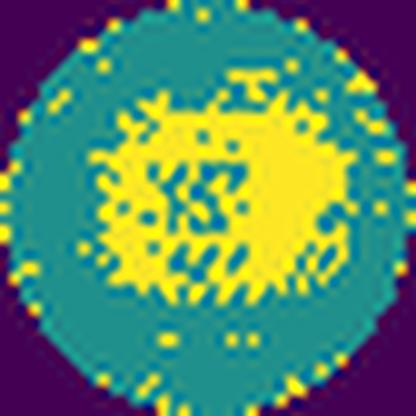Donut: (82, 62, 364, 310)
